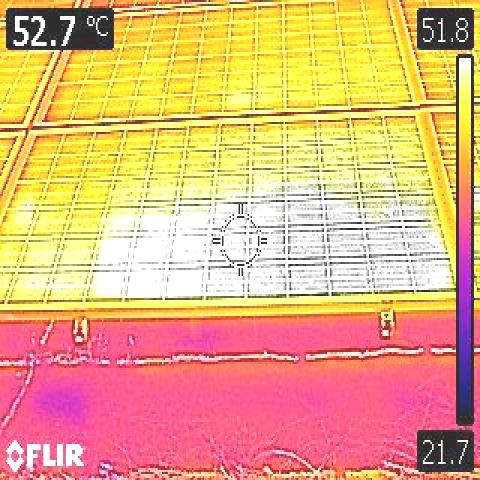fault: (276, 183, 430, 298), (100, 214, 210, 294)
